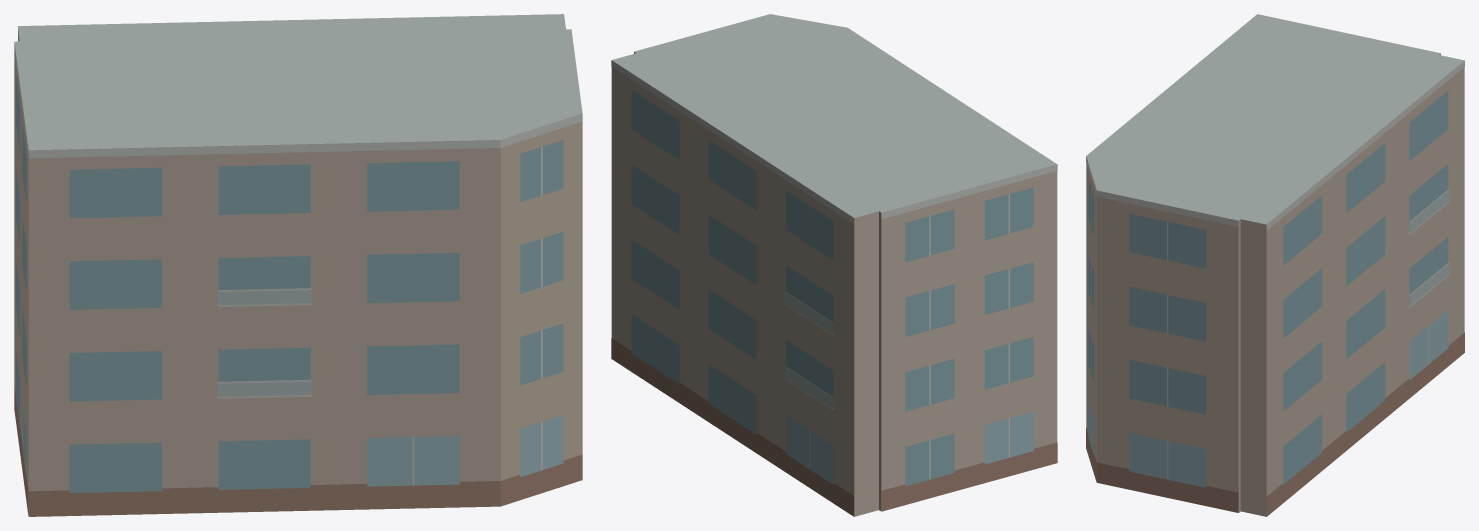
File: survey-upis-32560143.glb
3 views of the same model, side by side, from view 1: azimuth 30°, elevation 25°; view 2: azimuth 150°, elevation 25°; view 3: azimuth 270°, elevation 25° (orthographic). The views are drawn at different scales.
Parts seen in each view (by area): view 1: survey-upis-32560143.tmp; view 2: survey-upis-32560143.tmp; view 3: survey-upis-32560143.tmp.
Part boxes in pixels (<box>): survey-upis-32560143.tmp: <box>14,14,582,516</box>; survey-upis-32560143.tmp: <box>611,14,1057,516</box>; survey-upis-32560143.tmp: <box>1086,14,1464,516</box>.
Size of the model in its own units: 17.25 by 11.16 by 13.11.
